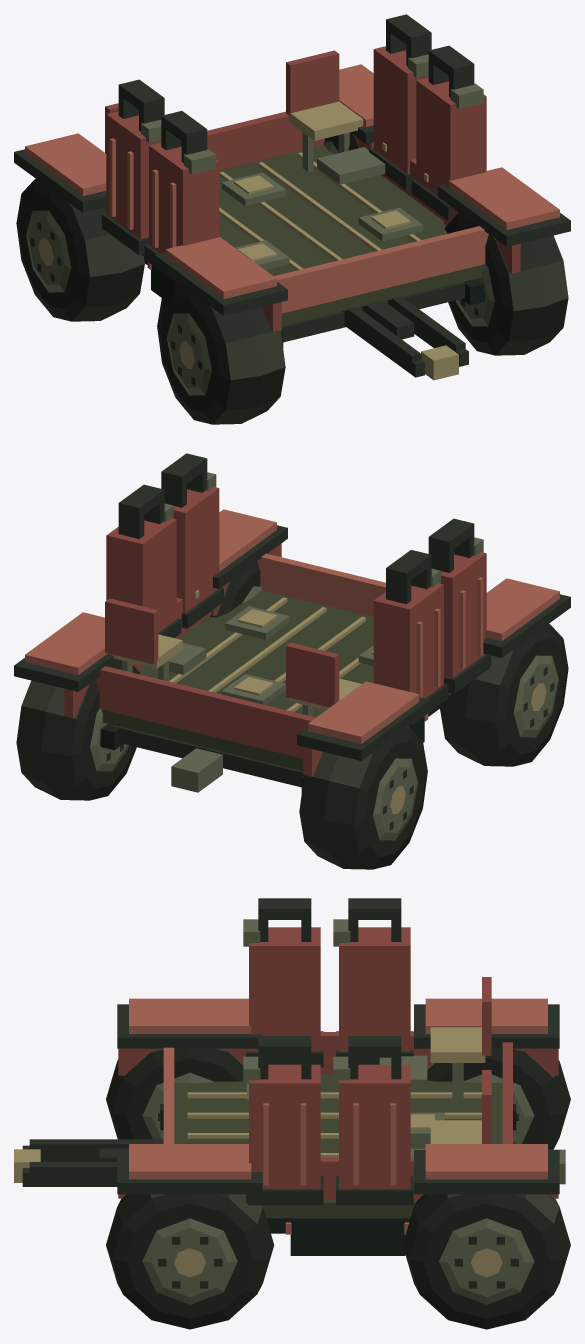
Rendered from military_wagon_fuel.glb.
The picture shows the model from 3 angles, top to bottom: view 1: azimuth 30°, elevation 25°; view 2: azimuth 150°, elevation 25°; view 3: azimuth 270°, elevation 25°; orthographic projection. The views are drawn at different scales.
Parts seen in each view (by area): view 1: WagonDeck.003, WagonDetails_fuel, AllTerrainTire.012, AllTerrainTire.014, AllTerrainTire.013, DrawbarFrame.003; view 2: WagonDeck.003, WagonDetails_fuel, AllTerrainTire.014, AllTerrainTire.012, AllTerrainTire.015, AllTerrainTire.013; view 3: WagonDeck.003, WagonDetails_fuel, AllTerrainTire.015, AllTerrainTire.013, AllTerrainTire.012, AllTerrainTire.014, DrawbarFrame.003.
Part boxes in pixels (<box>): WagonDeck.003: <box>14,50,570,364</box>; WagonDetails_fuel: <box>102,14,486,281</box>; AllTerrainTire.012: <box>157,281,285,424</box>; AllTerrainTire.014: <box>16,179,144,321</box>; AllTerrainTire.013: <box>444,212,568,355</box>; DrawbarFrame.003: <box>344,303,468,380</box>; WagonDeck.003: <box>14,509,570,792</box>; WagonDetails_fuel: <box>106,453,491,725</box>; AllTerrainTire.014: <box>299,726,427,869</box>; AllTerrainTire.012: <box>440,624,568,766</box>; AllTerrainTire.015: <box>16,660,140,800</box>; AllTerrainTire.013: <box>209,561,261,617</box>; WagonDeck.003: <box>29,977,565,1255</box>; WagonDetails_fuel: <box>243,898,413,1205</box>; AllTerrainTire.015: <box>402,1194,570,1329</box>; AllTerrainTire.013: <box>106,1194,274,1329</box>; AllTerrainTire.012: <box>106,1048,243,1139</box>; AllTerrainTire.014: <box>427,1048,570,1149</box>; DrawbarFrame.003: <box>14,1145,117,1186</box>.
Size of the model in its own units: 4.48 by 3.18 by 5.82.
2 materials, 2 textured.
